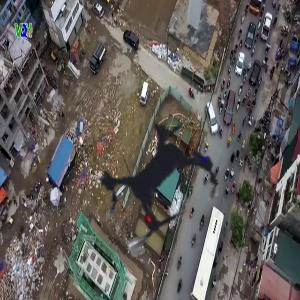drone: (53, 77, 271, 295)
